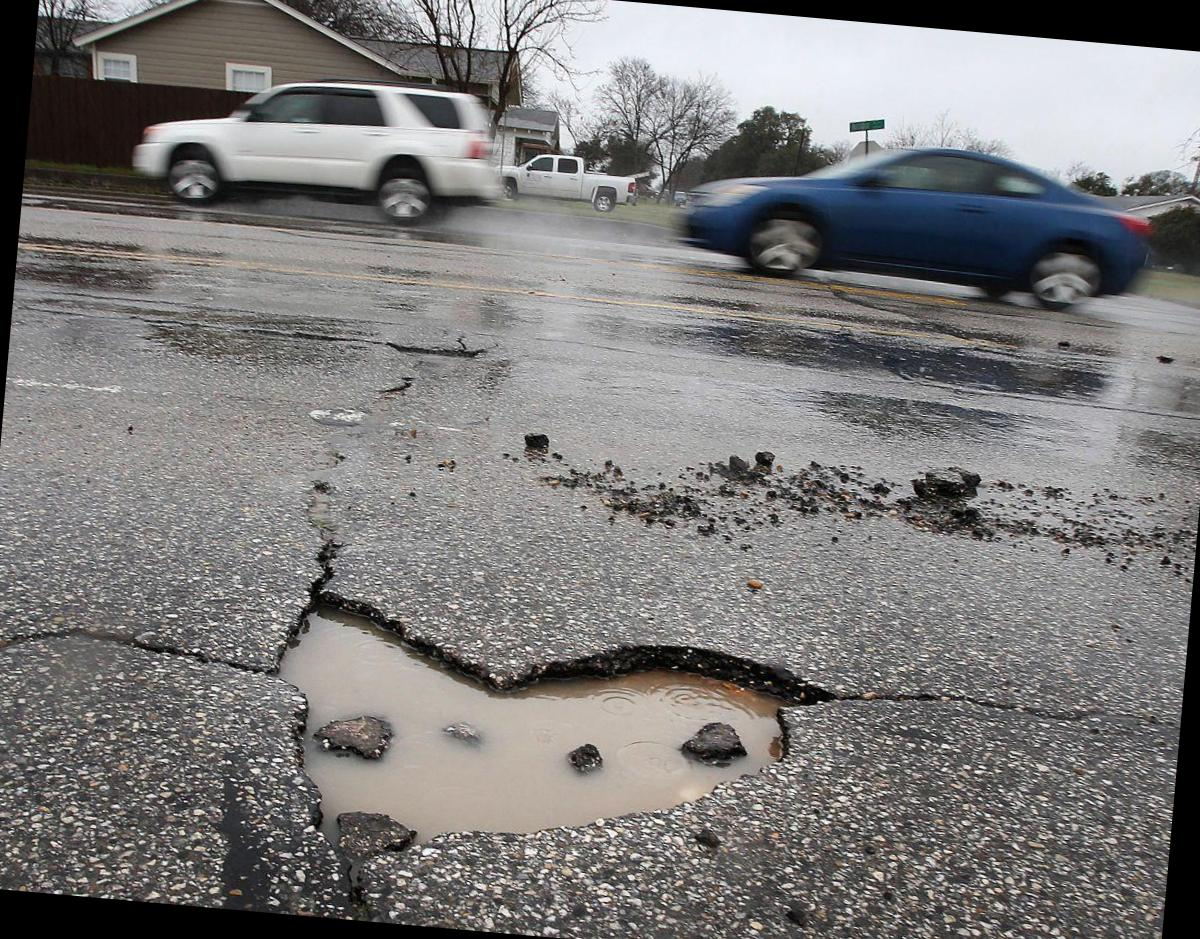pothole: (148, 518, 901, 922)
